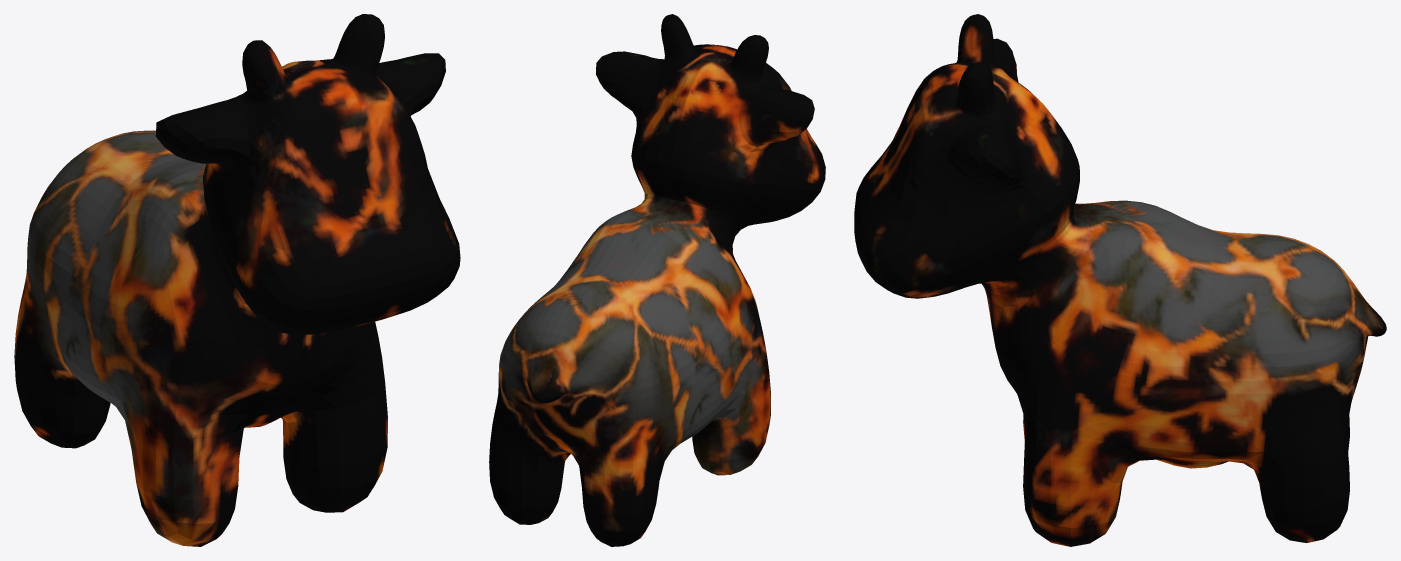
The model's file is frozen_t3.glb.
The picture shows the model from 3 angles, left to right: view 1: azimuth 30°, elevation 25°; view 2: azimuth 150°, elevation 25°; view 3: azimuth 270°, elevation 25°; orthographic projection. The views are drawn at different scales.
Visible parts, largest first — view 1: world; view 2: world; view 3: world.
Part boxes in pixels (x1,y1,x2,y2): world: [14, 14, 460, 546]; world: [489, 14, 825, 546]; world: [854, 14, 1386, 546].
Bounding box in the file's own units: 0.549 × 0.984 × 1.
